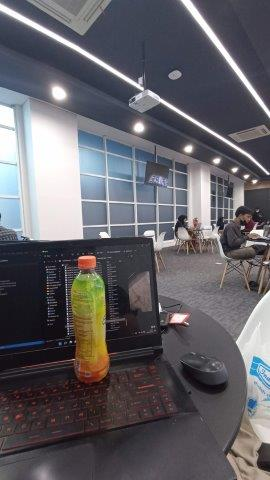botolplastik: (71, 255, 109, 382)
